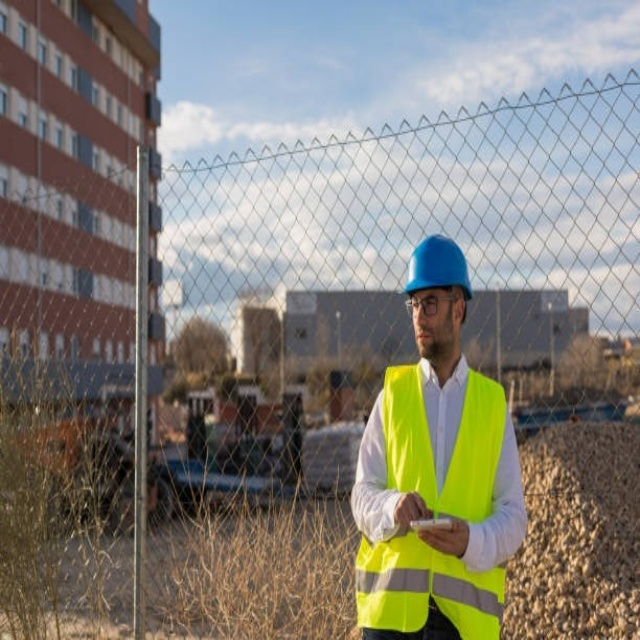Gafas: (405, 294, 455, 317)
Sin_guantes: (419, 516, 468, 552), (393, 490, 428, 533)
Sin_mascara: (413, 326, 433, 351)
